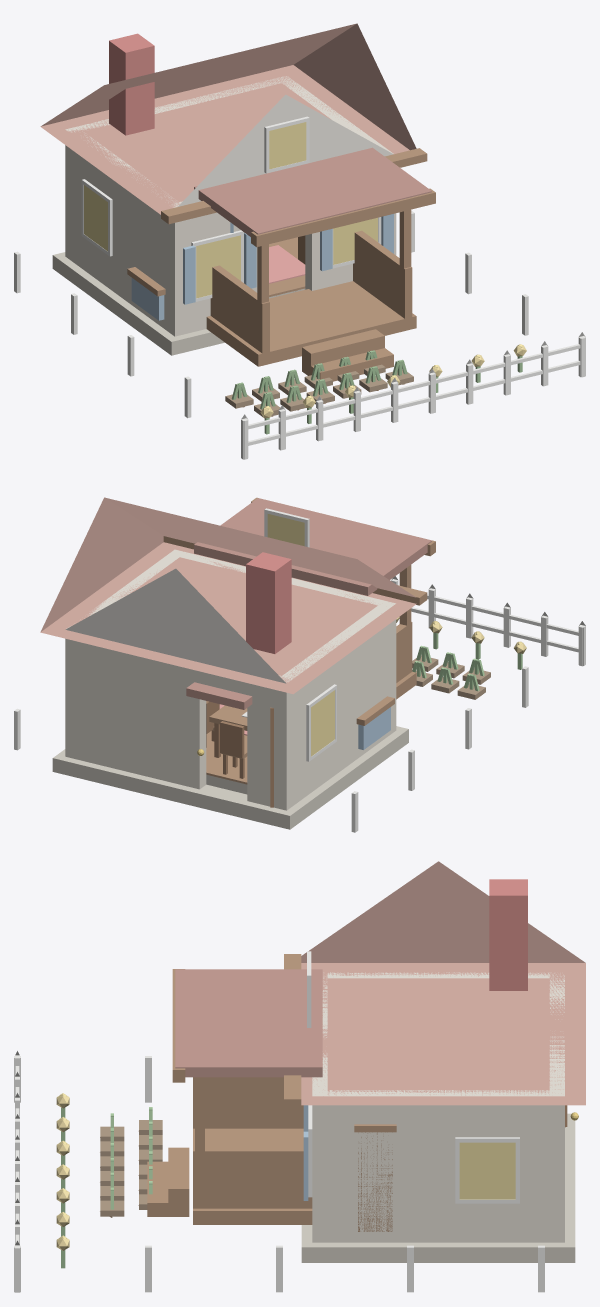
The model's file is dum_kovarikovi.glb.
3 renders of one model, top to bottom at view 1: azimuth 30°, elevation 25°; view 2: azimuth 150°, elevation 25°; view 3: azimuth 270°, elevation 25°, orthographic. The views are drawn at different scales.
Visible parts, largest first — view 1: dum_kovarikovi_roof, dum_kovarikovi_wood, dum_kovarikovi_plaster2, dum_kovarikovi_roof2, dum_kovarikovi_white, dum_kovarikovi_yellow, dum_kovarikovi_plaster, dum_kovarikovi_red2, dum_kovarikovi_stone2, dum_kovarikovi_blue2, dum_kovarikovi_green2, dum_kovarikovi_mud2 (+2 smaller); view 2: dum_kovarikovi_plaster2, dum_kovarikovi_roof, dum_kovarikovi_plaster, dum_kovarikovi_roof2, dum_kovarikovi_stone2, dum_kovarikovi_white, dum_kovarikovi_wood, dum_kovarikovi_red2, dum_kovarikovi_yellow, dum_kovarikovi_wood2, dum_kovarikovi_green2, dum_kovarikovi_mud2 (+1 smaller); view 3: dum_kovarikovi_roof, dum_kovarikovi_plaster2, dum_kovarikovi_wood, dum_kovarikovi_roof2, dum_kovarikovi_stone2, dum_kovarikovi_white, dum_kovarikovi_red2, dum_kovarikovi_yellow, dum_kovarikovi_mud2, dum_kovarikovi_wood2, dum_kovarikovi_green2, dum_kovarikovi_gold (+1 smaller).
Part boxes in pixels (x1,y1,x2,y2): dum_kovarikovi_roof: [40, 23, 416, 214]; dum_kovarikovi_wood: [127, 148, 435, 381]; dum_kovarikovi_plaster2: [65, 76, 396, 336]; dum_kovarikovi_roof2: [194, 147, 431, 236]; dum_kovarikovi_white: [14, 116, 585, 459]; dum_kovarikovi_yellow: [84, 122, 522, 409]; dum_kovarikovi_plaster: [178, 94, 393, 206]; dum_kovarikovi_red2: [109, 33, 154, 135]; dum_kovarikovi_stone2: [52, 252, 305, 355]; dum_kovarikovi_blue2: [131, 214, 393, 320]; dum_kovarikovi_green2: [231, 350, 522, 434]; dum_kovarikovi_mud2: [225, 364, 413, 417]; dum_kovarikovi_plaster2: [65, 549, 396, 810]; dum_kovarikovi_roof: [40, 497, 416, 694]; dum_kovarikovi_plaster: [65, 568, 286, 683]; dum_kovarikovi_roof2: [186, 498, 431, 709]; dum_kovarikovi_stone2: [52, 726, 408, 829]; dum_kovarikovi_white: [14, 508, 585, 832]; dum_kovarikovi_wood: [163, 497, 435, 784]; dum_kovarikovi_red2: [246, 552, 291, 653]; dum_kovarikovi_yellow: [267, 514, 522, 756]; dum_kovarikovi_wood2: [206, 701, 273, 807]; dum_kovarikovi_green2: [412, 632, 522, 691]; dum_kovarikovi_mud2: [412, 655, 490, 699]; dum_kovarikovi_roof: [301, 861, 585, 1105]; dum_kovarikovi_plaster2: [312, 972, 564, 1242]; dum_kovarikovi_wood: [147, 954, 396, 1224]; dum_kovarikovi_roof2: [175, 969, 322, 1077]; dum_kovarikovi_stone2: [301, 1113, 575, 1262]; dum_kovarikovi_white: [14, 951, 544, 1292]; dum_kovarikovi_red2: [489, 879, 527, 990]; dum_kovarikovi_yellow: [59, 1093, 515, 1238]; dum_kovarikovi_mud2: [100, 1120, 162, 1216]; dum_kovarikovi_wood2: [358, 1105, 567, 1231]; dum_kovarikovi_green2: [61, 1107, 152, 1268]; dum_kovarikovi_gold: [56, 1095, 69, 1250].
Size of the model in its own units: 6.5 by 4.33 by 8.15.
